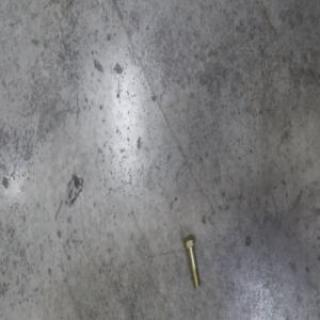Bolttrack_idkeyframe: (181, 232, 200, 289)
